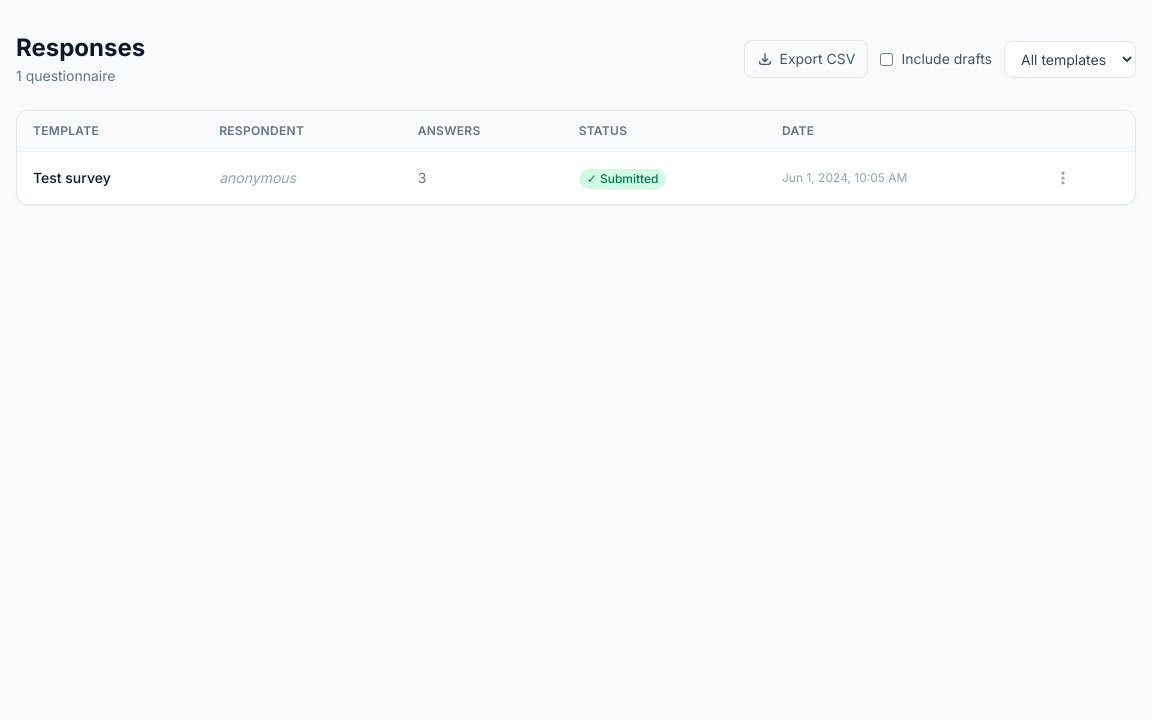
Test: ResponsesPage — detail panel › closes panel on close button click
The width and height of the screenshot is (1152, 720).
Expected: the cell "Test survey" is shown, [17,152,203,204]
What coordinates should you click on to do the following:
click the row "Test survey anonymous 3 ✓ Submitted Jun 1, 2024, 10:05 AM"
I would click on:
 (576, 178)
Its box is [17,152,1135,204].
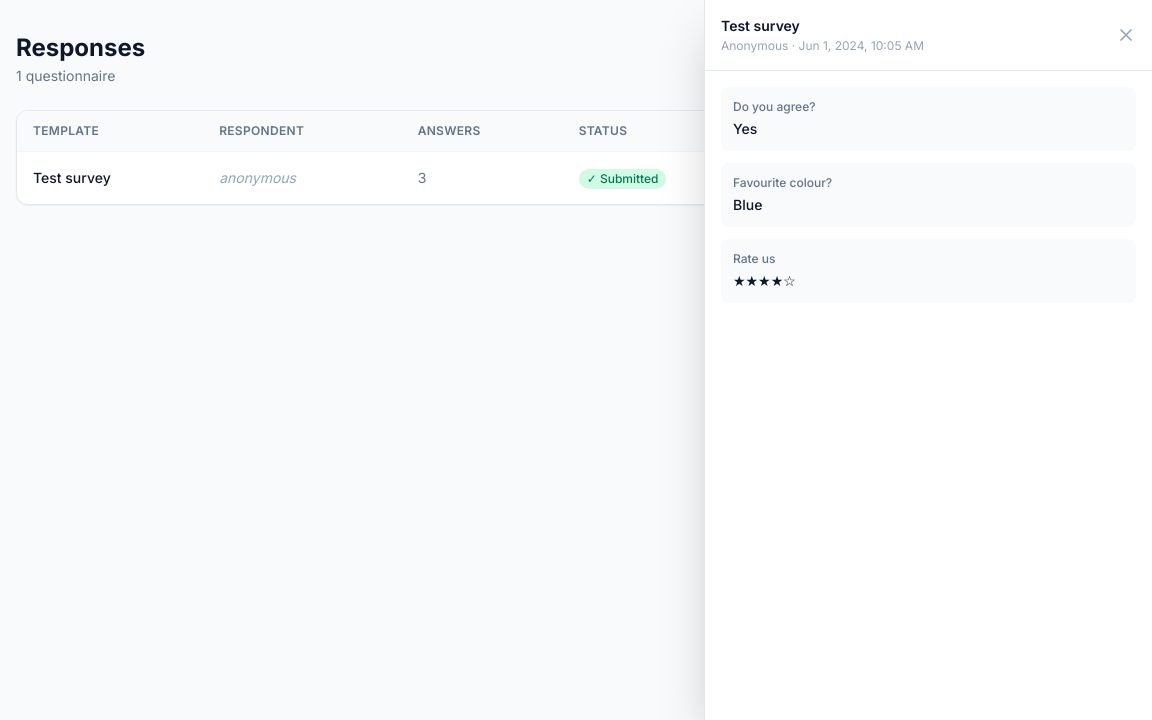
Expected: the text "Do you agree?" is shown, [733,99,816,114]
What coordinates should you click on to do the following:
click the button
I would click on:
 (1126, 35)
Its box is [1116,25,1136,45].
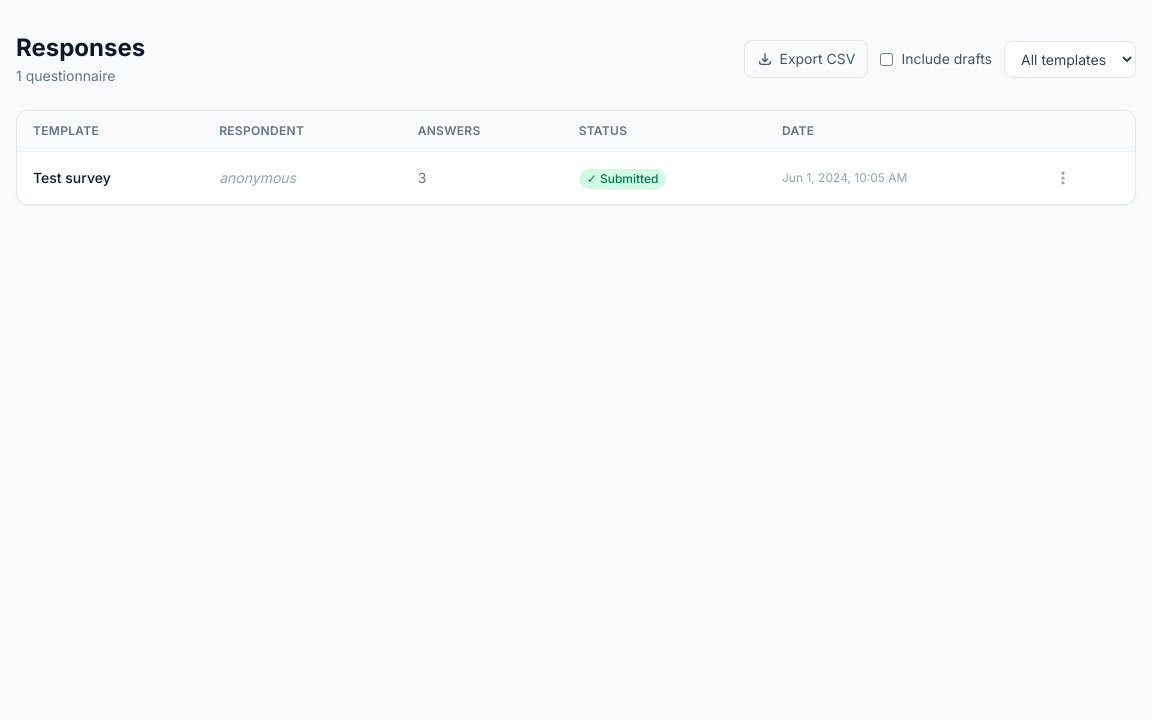
Expected: the text "Do you agree?" is gone
